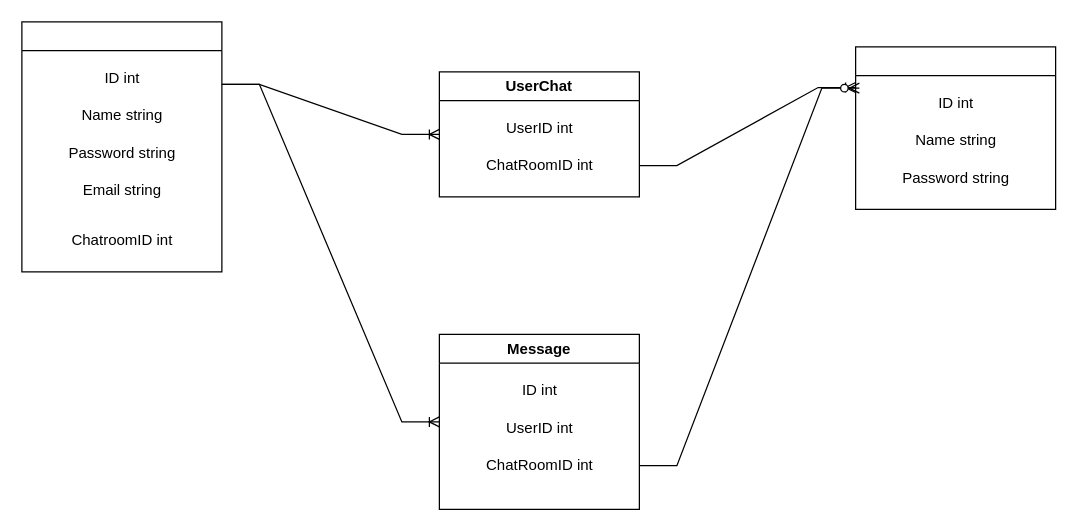
Image size: 1078x531. Some labels were removed from this diagram. Here are the shapes that lost their labels. From the top down, the box of each, then its label:
(21, 21, 222, 272): User
(854, 46, 1056, 209): ChatRoom
